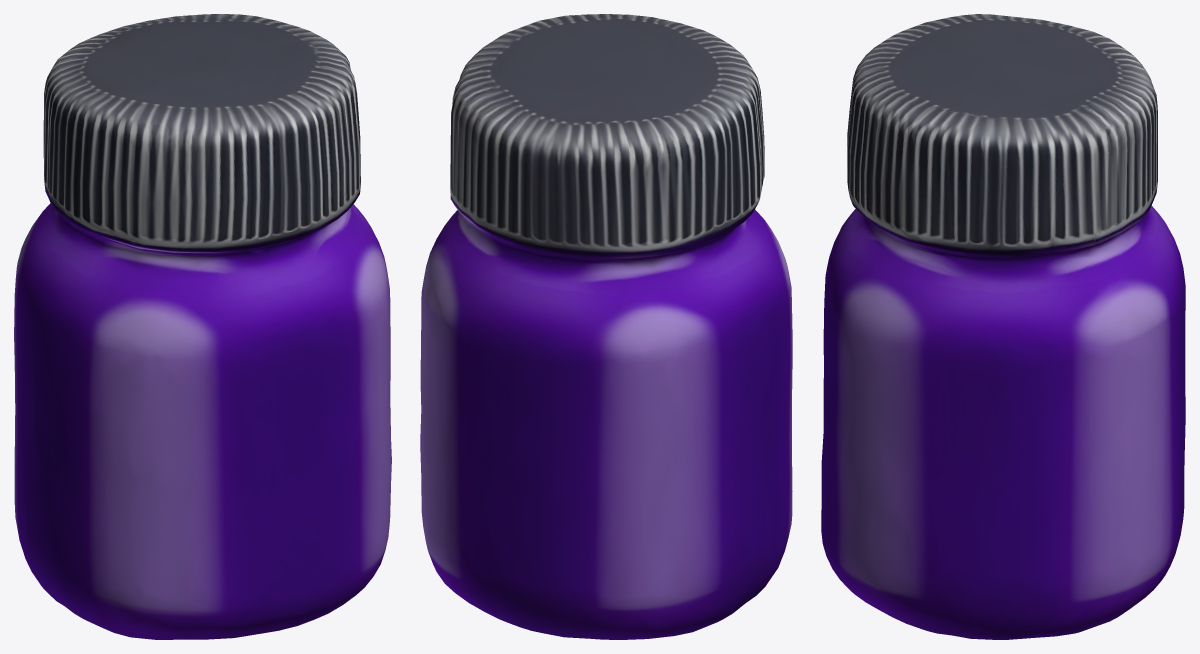
The model's file is Purple.fbx.
3 views of the same model, side by side, from view 1: azimuth 30°, elevation 25°; view 2: azimuth 150°, elevation 25°; view 3: azimuth 270°, elevation 25° (orthographic).
Parts seen in each view (by area): view 1: tripo_node_cd100529; view 2: tripo_node_cd100529; view 3: tripo_node_cd100529.
Boxes of the visible parts, bbox=[...] form: tripo_node_cd100529: bbox=[14, 14, 391, 639]; tripo_node_cd100529: bbox=[420, 14, 792, 639]; tripo_node_cd100529: bbox=[821, 14, 1185, 639].
Bounding box in the file's own units: 0.635 × 1 × 0.6313.
1 material, 1 textured.
